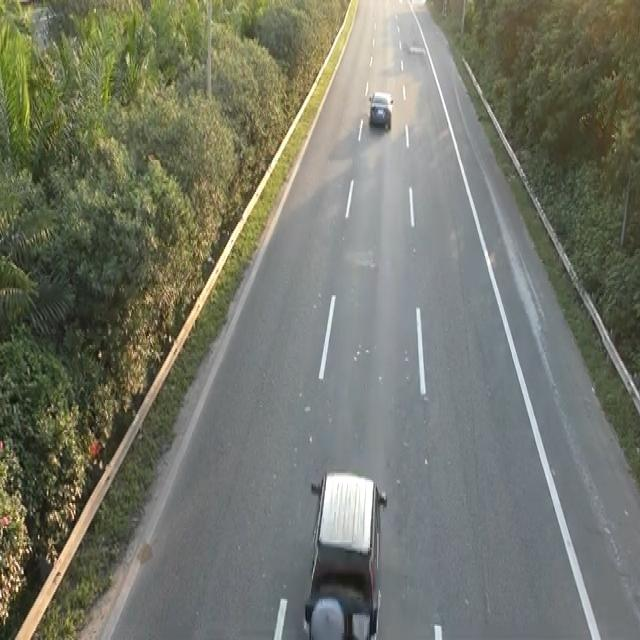car: (301, 464, 388, 635)
